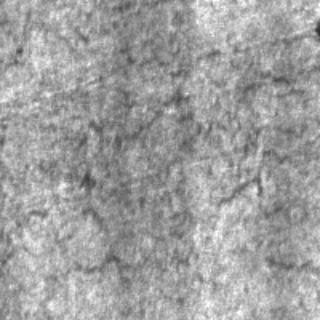crazing: (29, 84, 195, 272), (200, 45, 300, 217)
